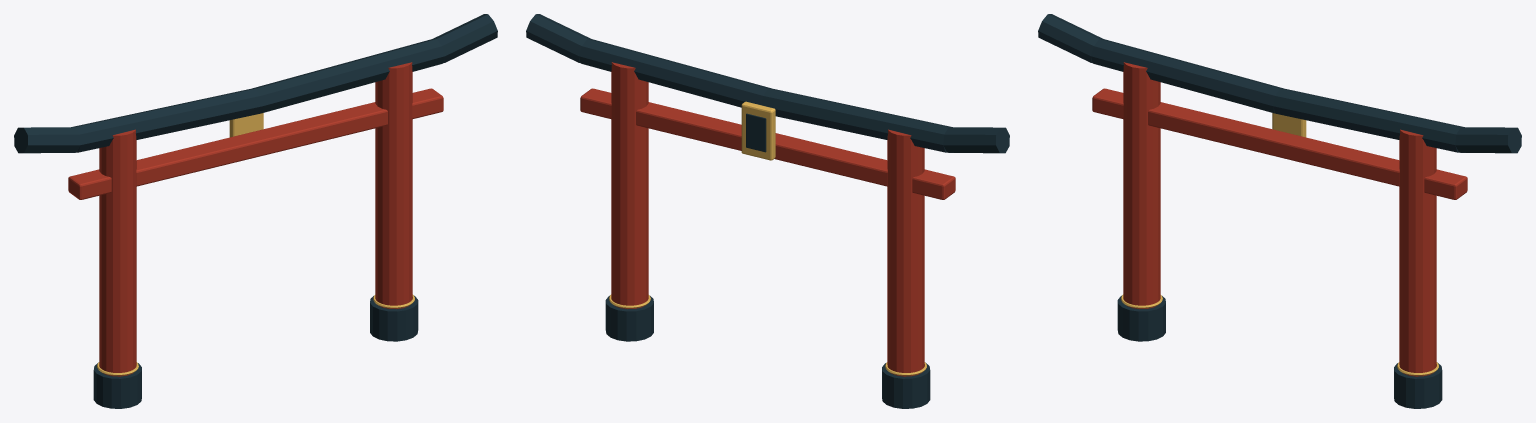
Rendered from torii.glb.
3 renders of one model, left to right at view 1: azimuth 30°, elevation 25°; view 2: azimuth 150°, elevation 25°; view 3: azimuth 330°, elevation 25°, orthographic.
Parts seen in each view (by area): view 1: Torii; view 2: Torii; view 3: Torii.
Part boxes in pixels (<box>): Torii: <box>14,14,497,408</box>; Torii: <box>526,14,1009,408</box>; Torii: <box>1038,14,1521,408</box>.
Size of the model in its own units: 9.91 by 5.86 by 0.8825.
